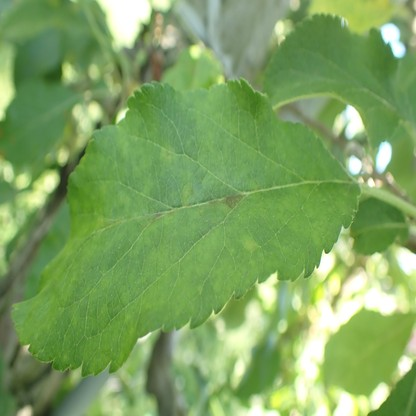scab: (223, 195, 245, 208), (207, 196, 218, 205), (188, 187, 194, 195), (154, 212, 162, 217), (166, 150, 170, 156)
